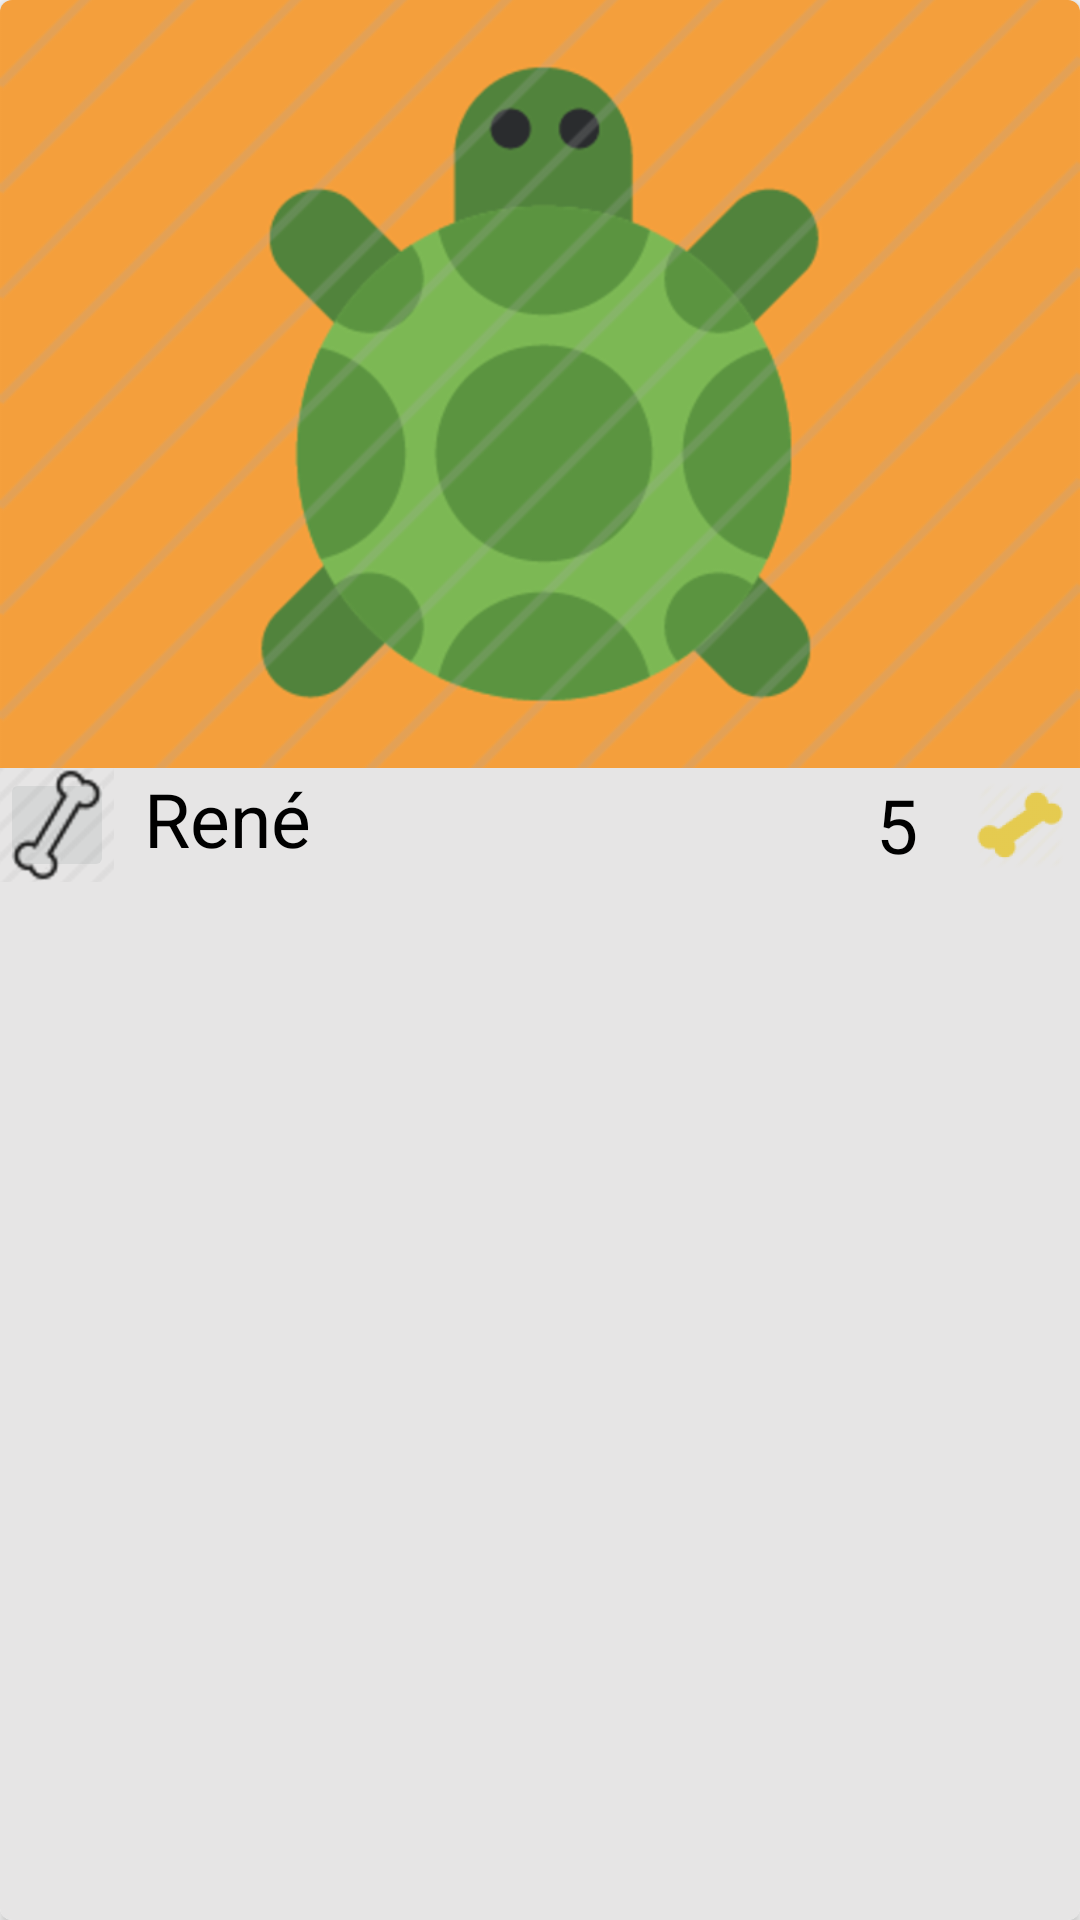

Icon bounding boxes for this 1080 x 1920 phone screenshot, format (x1, y1, x2, y2):
hueso amarillo: (977, 791, 1063, 858)
hueso blanco: (12, 770, 102, 880)
